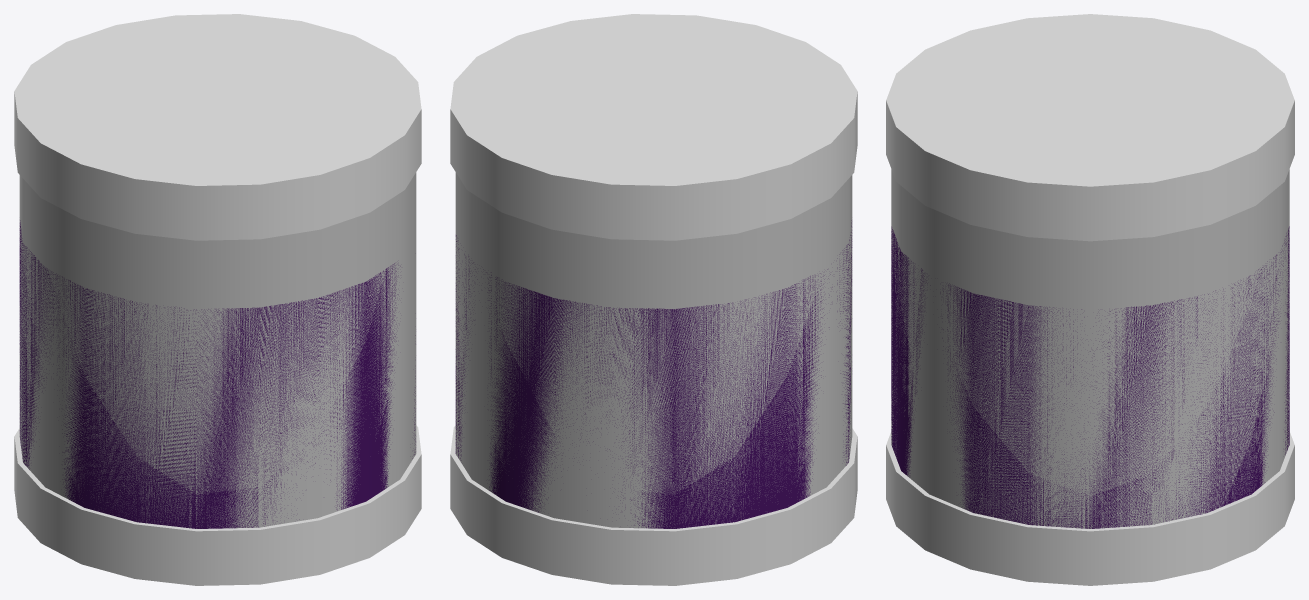
The model's file is tank_WithLiquid_NoBase.fbx.
3 renders of one model, left to right at view 1: azimuth 30°, elevation 25°; view 2: azimuth 150°, elevation 25°; view 3: azimuth 270°, elevation 25°, orthographic.
Visible parts, largest first — view 1: tankMid, tankLid, innerTankMesh, tankBase; view 2: tankMid, tankLid, innerTankMesh, tankBase; view 3: tankMid, tankLid, innerTankMesh, tankBase.
Boxes of the visible parts, <box> form: tankMid: <box>19,172,416,528</box>; tankLid: <box>14,14,421,240</box>; innerTankMesh: <box>19,220,415,528</box>; tankBase: <box>14,425,421,585</box>; tankMid: <box>455,172,852,528</box>; tankLid: <box>450,14,857,240</box>; innerTankMesh: <box>455,220,852,528</box>; tankBase: <box>450,425,857,585</box>; tankMid: <box>891,169,1289,528</box>; tankLid: <box>886,14,1294,241</box>; innerTankMesh: <box>891,226,1289,528</box>; tankBase: <box>886,432,1294,585</box>.
Bounding box in the file's own units: 0.9269 × 0.9991 × 0.9269.
